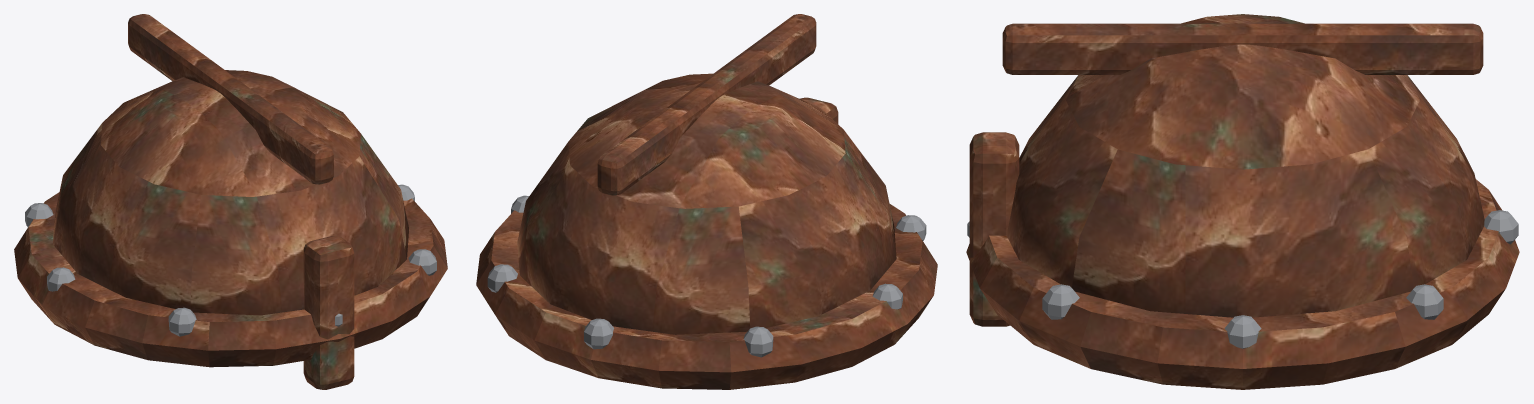
The model's file is helm_copper.glb.
The picture shows the model from 3 angles, left to right: view 1: azimuth 30°, elevation 25°; view 2: azimuth 150°, elevation 25°; view 3: azimuth 270°, elevation 25°; orthographic projection. The views are drawn at different scales.
Parts seen in each view (by area): view 1: model; view 2: model; view 3: model.
Boxes of the visible parts, <box> form: model: <box>14,14,447,389</box>; model: <box>476,14,937,389</box>; model: <box>966,14,1519,389</box>.
Bounding box in the file's own units: 0.334 × 0.195 × 0.334.
Materials: 2 (1 with a texture image).
